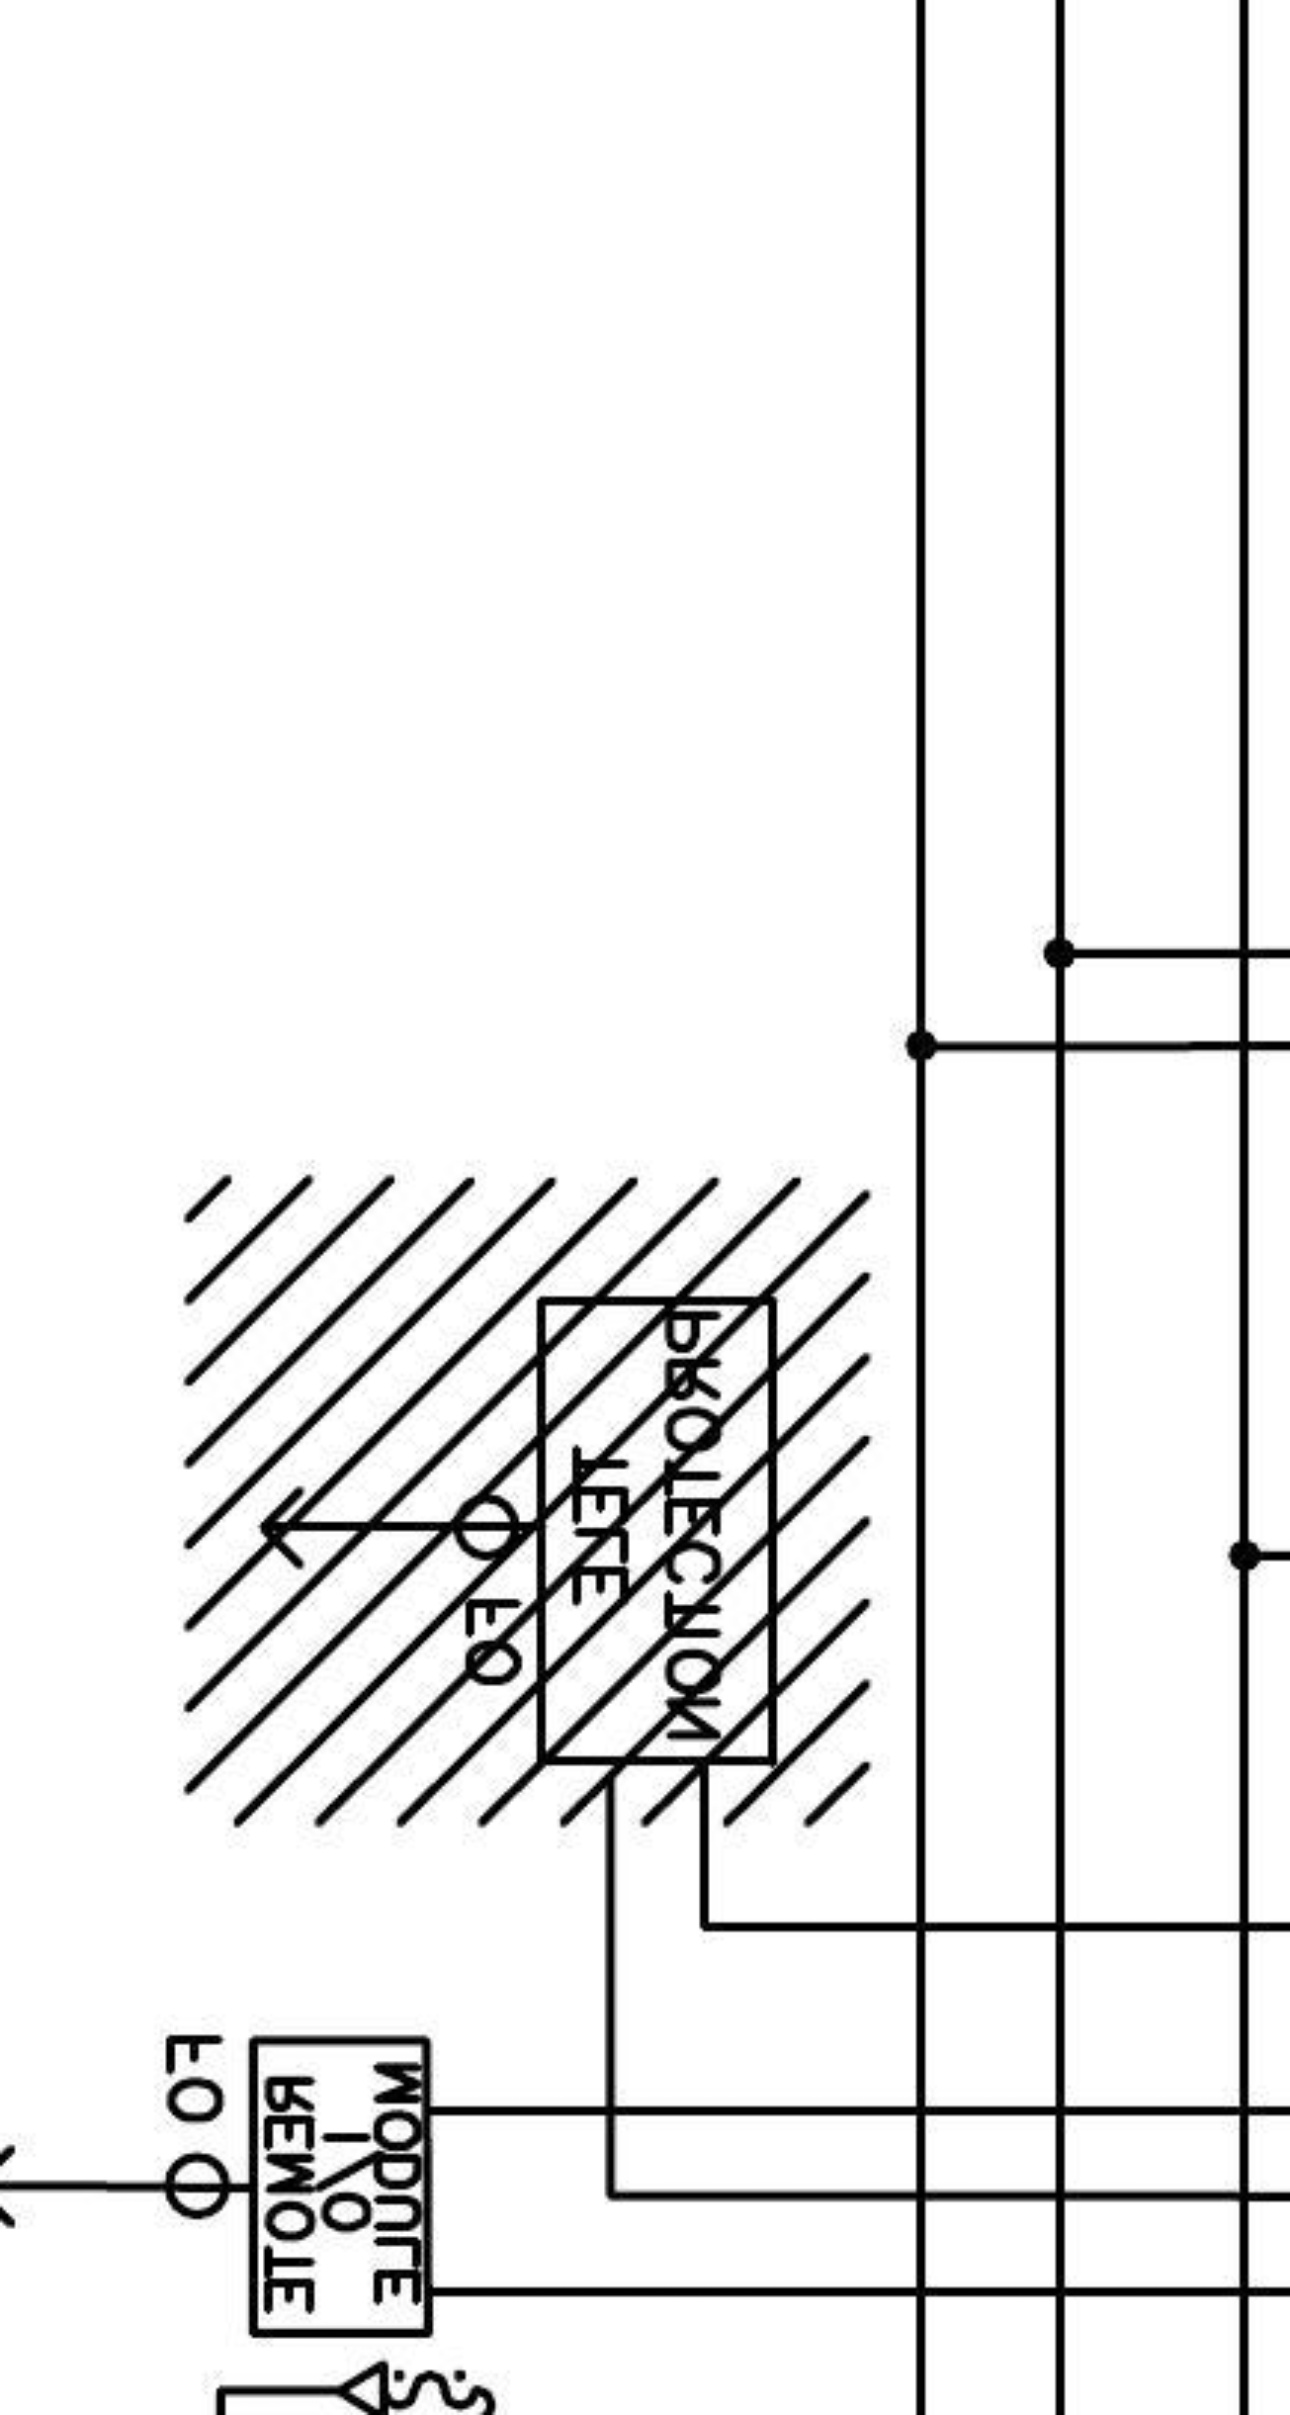remote_io_module: (244, 2030, 439, 2343)
tele_protection: (530, 1287, 787, 1773)
